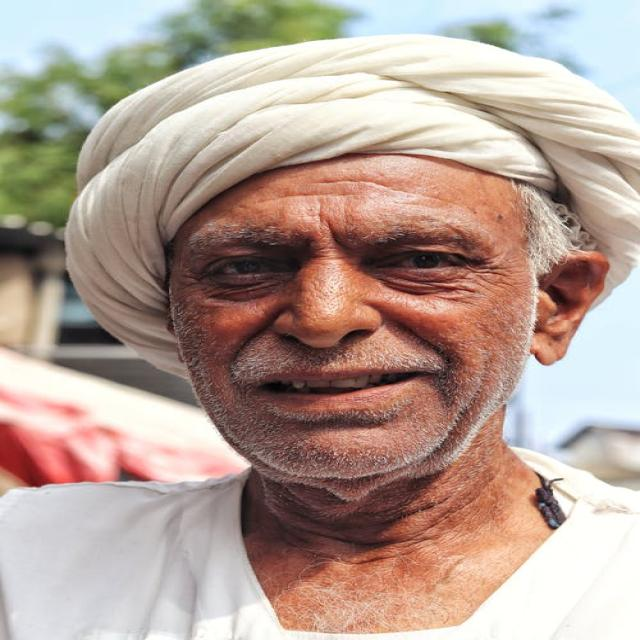Wrinkles: (251, 192, 332, 203), (310, 180, 393, 189), (329, 220, 350, 249), (321, 201, 324, 223)
